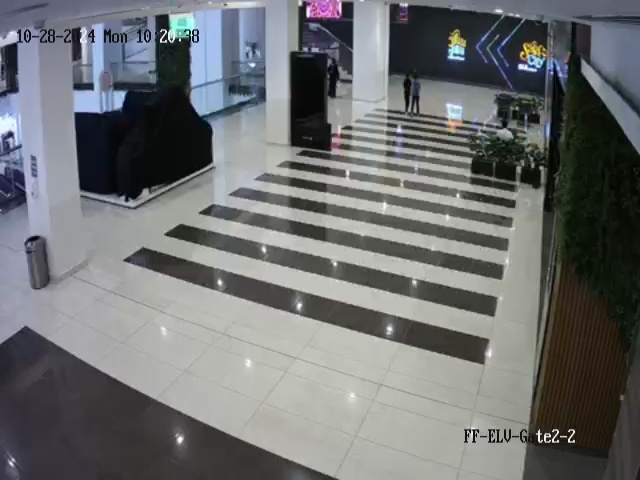female: (327, 57, 340, 98)
male: (490, 113, 519, 146), (408, 73, 421, 115), (403, 75, 412, 113)
